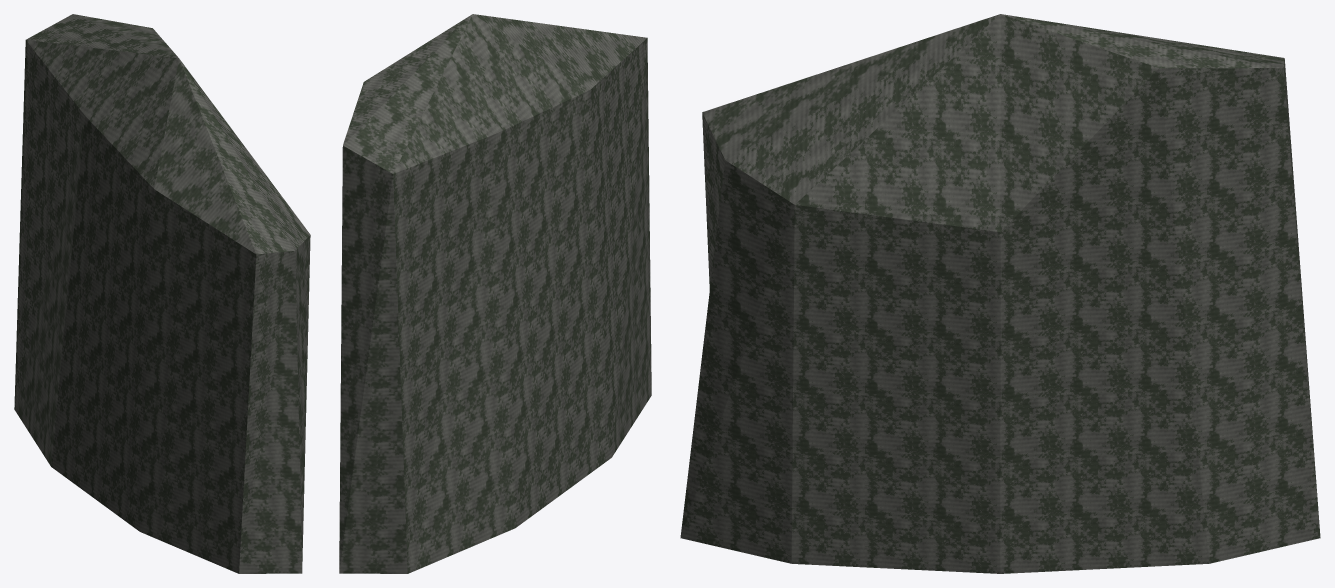
The model's file is Cliff63279_LOD1.fbx.
The picture shows the model from 3 angles, left to right: view 1: azimuth 30°, elevation 25°; view 2: azimuth 150°, elevation 25°; view 3: azimuth 270°, elevation 25°; orthographic projection. The views are drawn at different scales.
Visible parts, largest first — view 1: Cliff63279_LOD1; view 2: Cliff63279_LOD1; view 3: Cliff63279_LOD1.
Part boxes in pixels (<box>): Cliff63279_LOD1: <box>14,14,310,573</box>; Cliff63279_LOD1: <box>339,14,651,573</box>; Cliff63279_LOD1: <box>680,14,1320,573</box>.
Bounding box in the file's own units: 1248 × 3400 × 3742.
1 material, 1 textured.
